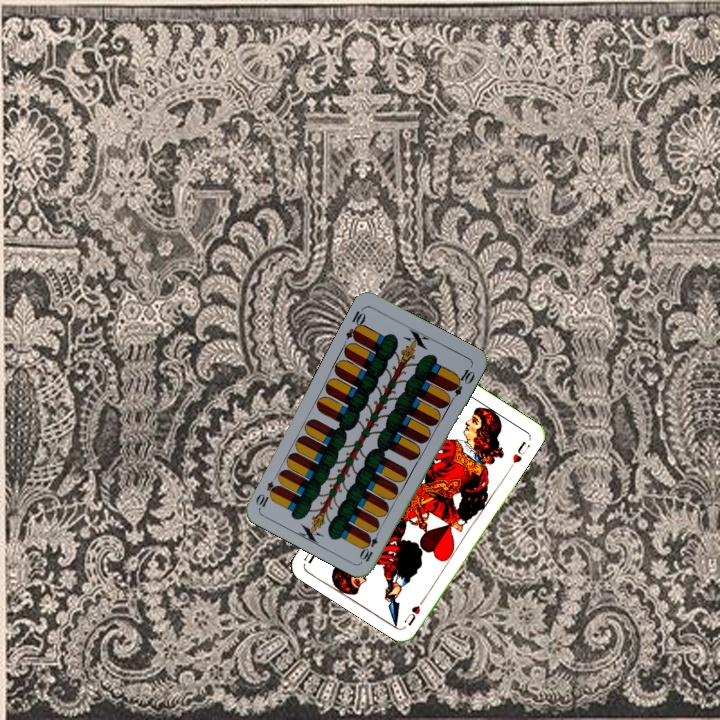E10: (342, 304, 369, 344), (357, 525, 383, 564)
HU: (400, 593, 429, 629)
